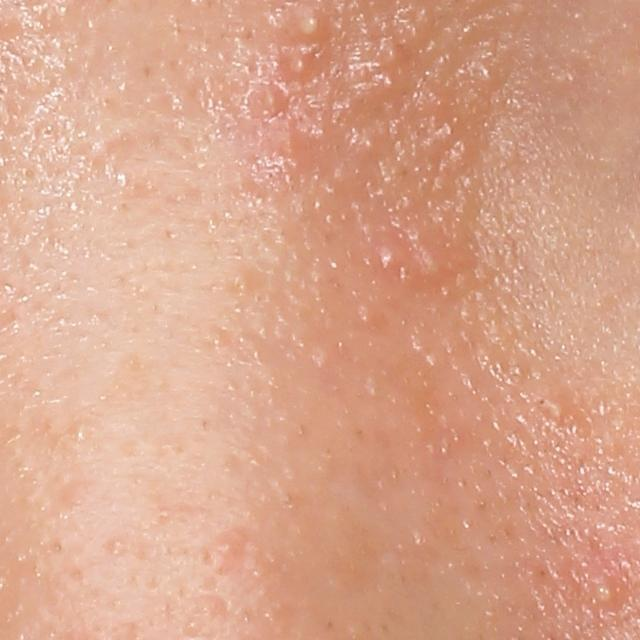comedo: (540, 397, 569, 425)
pustule: (280, 2, 337, 53), (582, 566, 626, 612), (282, 47, 318, 85), (377, 238, 405, 277)
